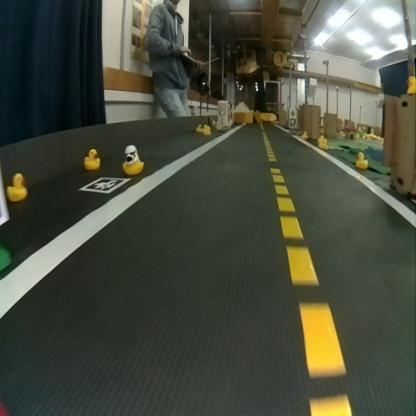Duckie: (123, 146, 143, 172), (8, 174, 26, 200), (84, 149, 99, 170), (355, 151, 368, 169), (406, 74, 414, 92), (319, 140, 327, 148)
QR code: (80, 178, 129, 193)
